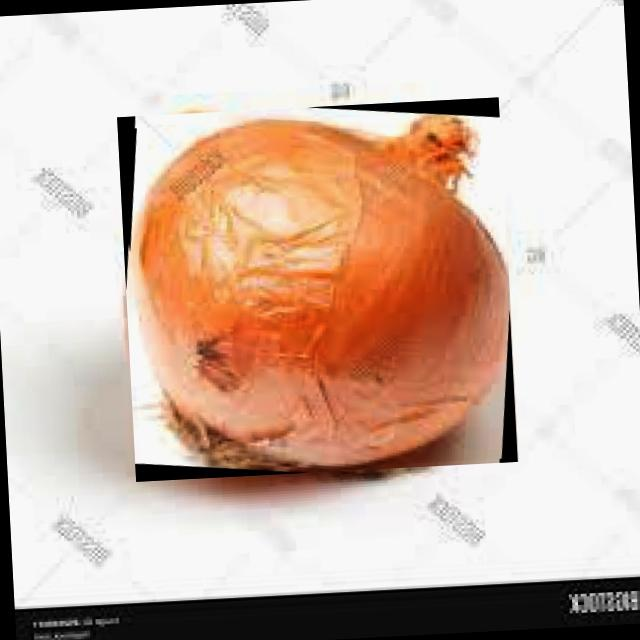healthy: (129, 113, 508, 471)
